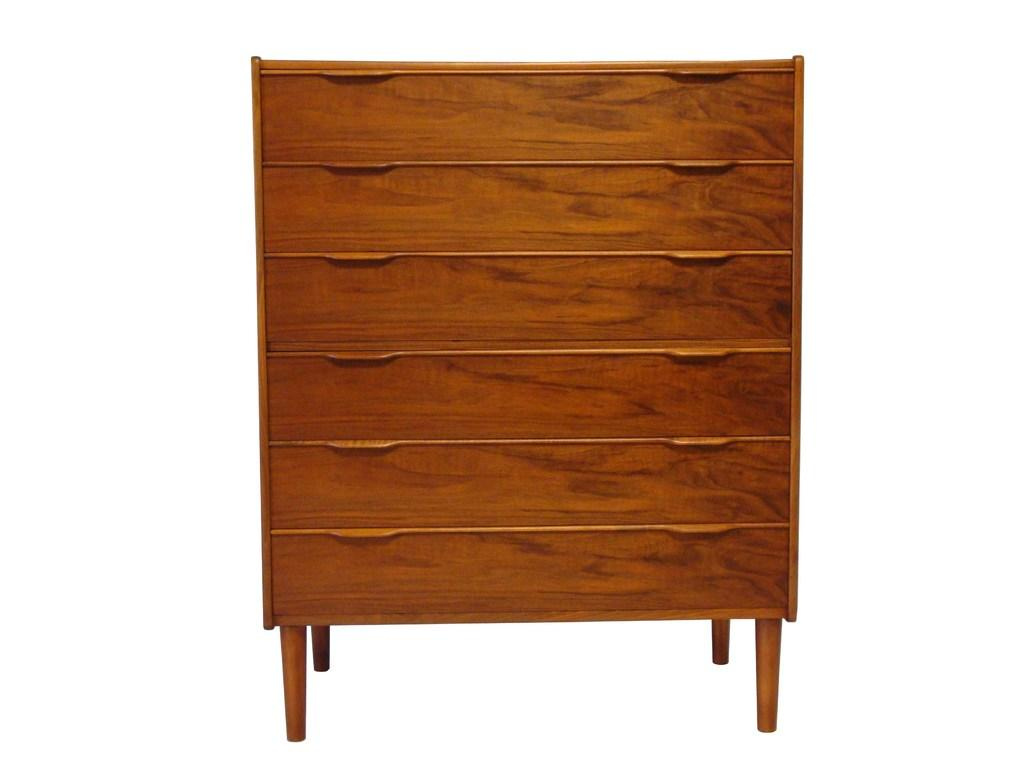cabinet_door: (264, 252, 792, 346), (265, 160, 779, 251), (264, 74, 790, 162), (264, 350, 793, 436), (272, 532, 782, 614), (267, 442, 788, 522)
handle: (664, 522, 742, 552), (664, 62, 734, 88), (662, 244, 736, 268), (665, 424, 731, 449), (332, 523, 399, 546), (324, 443, 399, 463), (660, 158, 734, 178), (328, 251, 393, 273), (334, 346, 396, 366), (326, 68, 392, 86), (332, 159, 394, 176), (672, 349, 730, 367)
